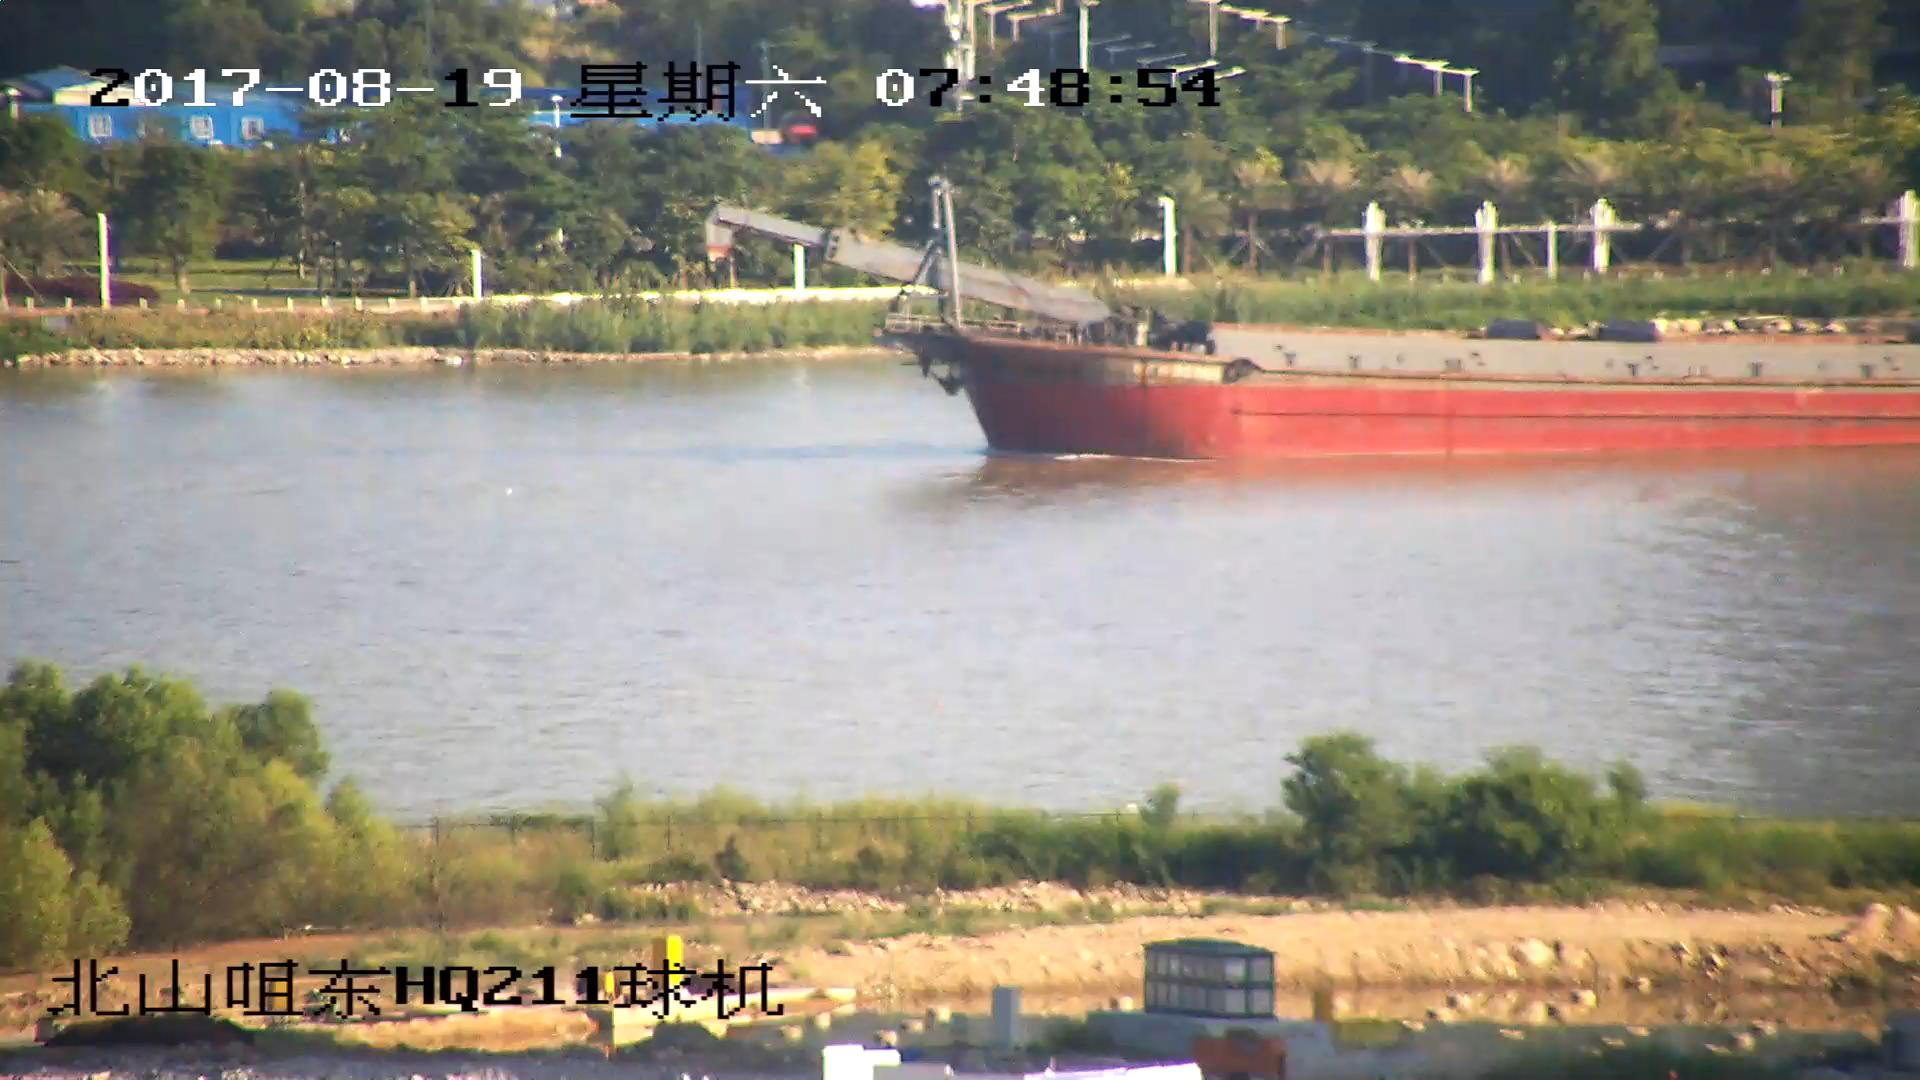bulk cargo carrier: (708, 193, 1920, 459)
